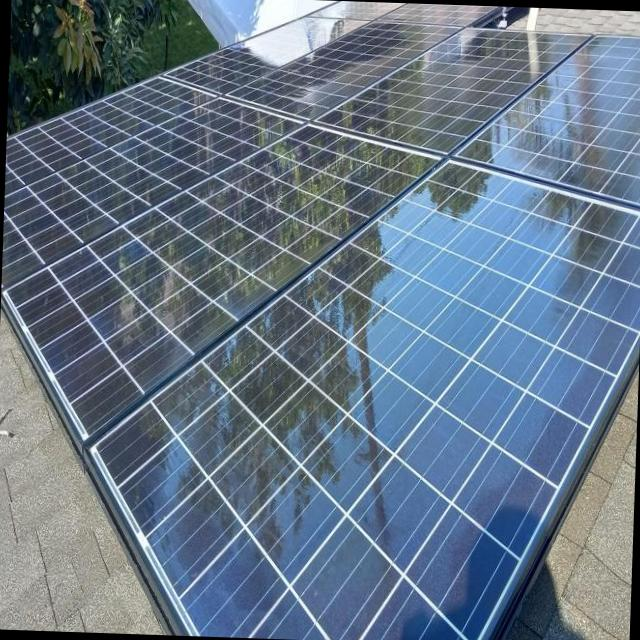no faulty: (94, 163, 639, 640), (1, 128, 436, 438), (1, 102, 285, 284), (314, 27, 578, 150), (466, 34, 640, 198), (4, 77, 203, 204), (232, 22, 463, 118)
